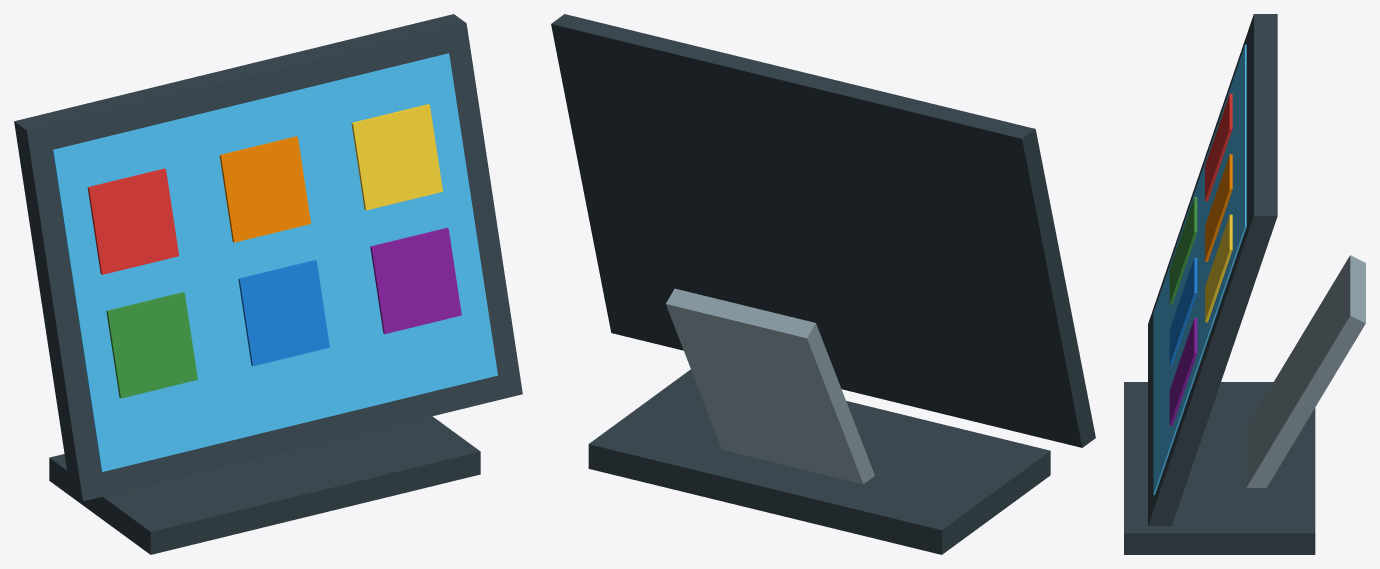
The model's file is surfplatta.glb.
3 views of the same model, side by side, from view 1: azimuth 30°, elevation 25°; view 2: azimuth 150°, elevation 25°; view 3: azimuth 270°, elevation 25° (orthographic). The views are drawn at different scales.
Parts seen in each view (by area): view 1: surfplatta; view 2: surfplatta; view 3: surfplatta.
Boxes of the visible parts, left/top/right/bottom form: surfplatta: left=14, top=14, right=522, bottom=554; surfplatta: left=551, top=14, right=1095, bottom=554; surfplatta: left=1124, top=14, right=1365, bottom=554.
Size of the model in its own units: 0.4 by 0.3402 by 0.2025.
